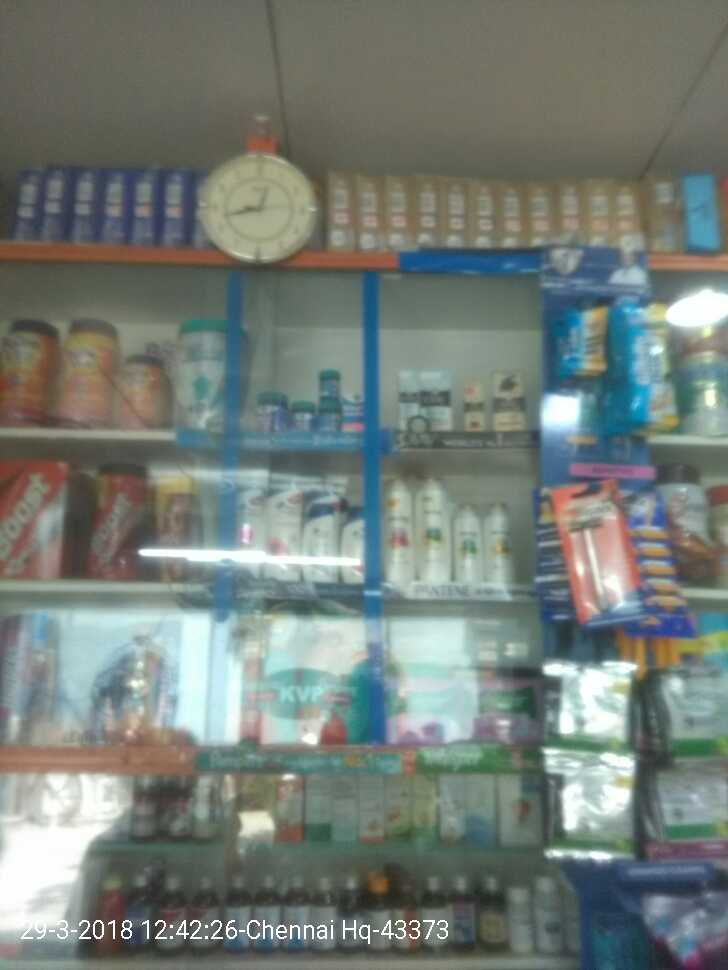vicks: (250, 367, 365, 434)
